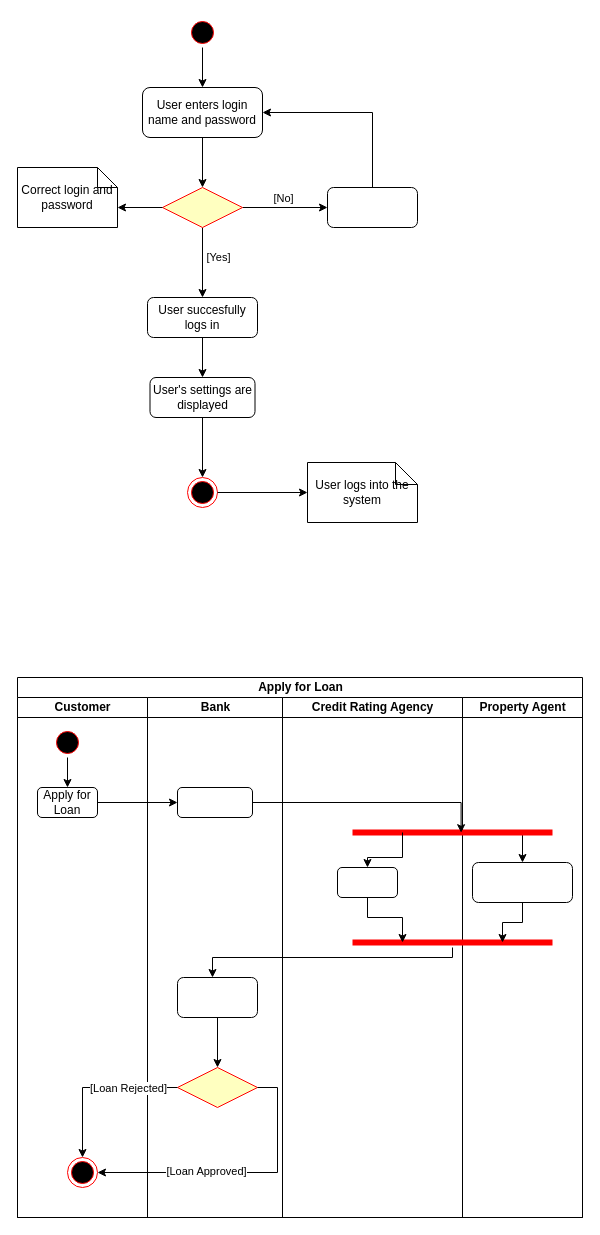
Some shapes in this 600 by 1235 pixel diagram are drawn without their labels. The centre of each missing label's shape, as x and y in pixels:
"Application Confirmed" belongs at point (214, 802).
"Credit Check" belongs at point (367, 882).
"Invalid login/ password" belongs at point (372, 207).
"Property Value Assessment" belongs at point (522, 882).
"Risk Assessment" belongs at point (217, 997).
